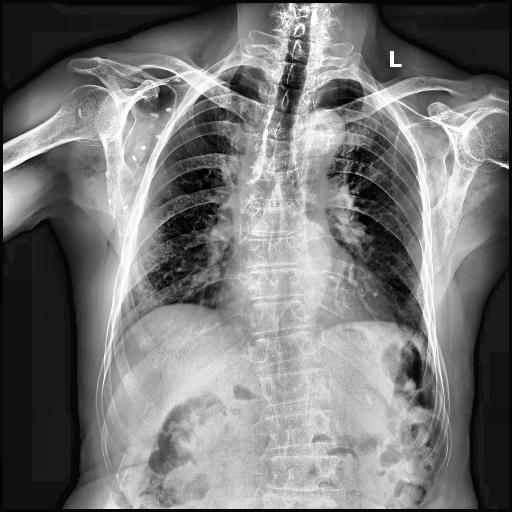0- Aortic enlargement: (296, 106, 344, 172), (293, 106, 346, 162), (294, 108, 346, 156)
2- Calcification: (114, 108, 172, 211)
3- Cardiomegaly: (216, 258, 397, 326), (221, 279, 397, 330)
5- ILD: (293, 106, 346, 162)
9- Other lesion: (98, 72, 180, 210), (249, 130, 282, 332), (114, 108, 172, 211)
